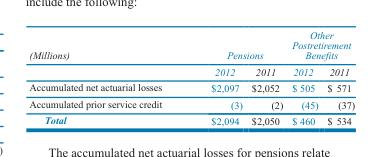table: (28, 29, 354, 126)
table column: (28, 29, 185, 126), (185, 29, 246, 126), (246, 29, 286, 126), (286, 29, 322, 126), (322, 29, 354, 126)
table column header: (28, 29, 354, 79)
table row: (28, 29, 354, 63), (28, 63, 354, 79), (28, 79, 354, 95), (28, 95, 354, 111), (28, 111, 354, 126)
table spanning cell: (28, 29, 185, 79), (185, 29, 286, 63), (286, 29, 354, 63)
